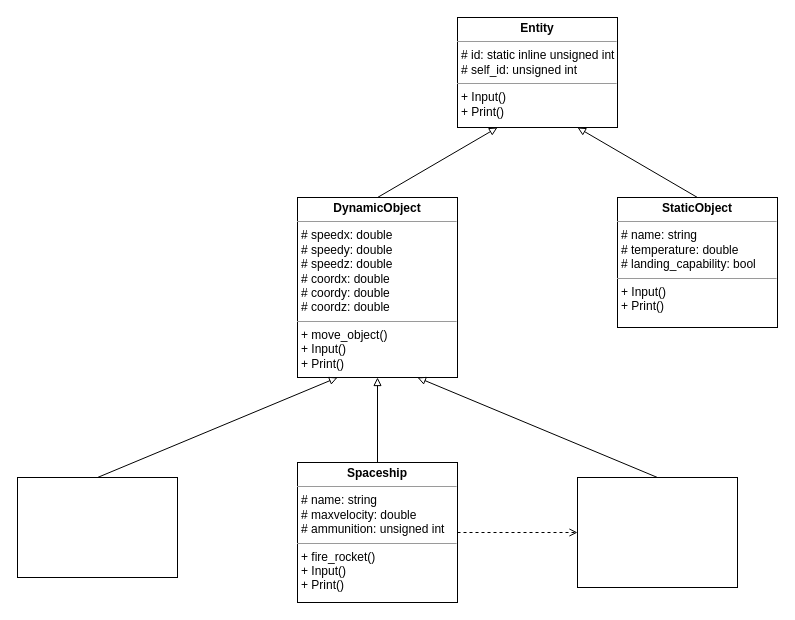
Some shapes in this 795 by 620 pixel diagram are drawn without their labels. Each missing label, with the centre of its shape:
"Asteroid # maxcssize: double + Input() + Print()" goes at point (97, 527).
"Rocket # power: double # lifetime: double + Input() + Print()" goes at point (657, 532).
